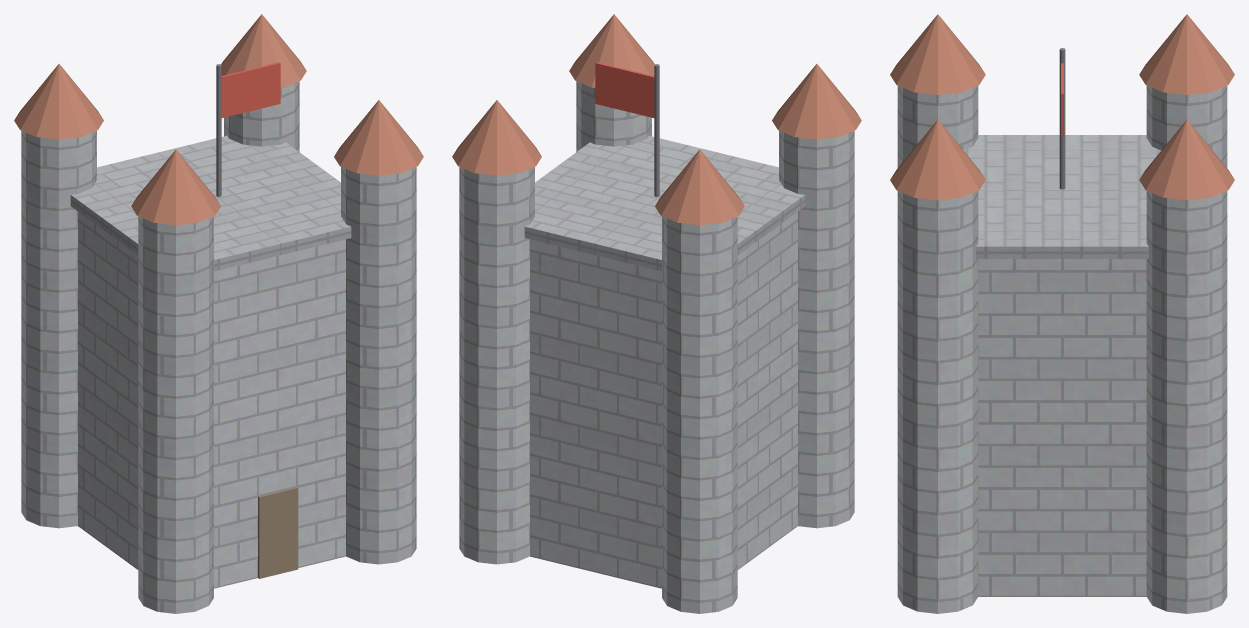
File: keep.glb
3 renders of one model, left to right at view 1: azimuth 30°, elevation 25°; view 2: azimuth 150°, elevation 25°; view 3: azimuth 270°, elevation 25°, orthographic. The views are drawn at different scales.
Parts seen in each view (by area): view 1: keep body, keep turret 1, keep turret 2, keep turret 3, keep course, keep cap 2, keep cap 3, keep cap 1, keep door, keep turret 4, keep cap 4, keep banner (+1 smaller); view 2: keep body, keep turret 3, keep turret 4, keep turret 1, keep course, keep cap 1, keep cap 4, keep cap 3, keep turret 2, keep cap 2, keep banner, keep pole; view 3: keep body, keep turret 2, keep turret 4, keep course, keep cap 2, keep cap 4, keep cap 1, keep cap 3, keep turret 1, keep turret 3, keep pole.
Part boxes in pixels (<box>): keep body: <box>78,212,345,588</box>; keep turret 1: <box>138,216,213,613</box>; keep turret 2: <box>341,167,416,564</box>; keep turret 3: <box>21,130,96,528</box>; keep course: <box>70,135,351,271</box>; keep cap 2: <box>334,100,423,175</box>; keep cap 3: <box>14,64,103,139</box>; keep cap 1: <box>131,149,220,225</box>; keep door: <box>258,487,298,578</box>; keep turret 4: <box>224,81,299,151</box>; keep cap 4: <box>221,14,306,87</box>; keep banner: <box>221,62,280,117</box>; keep body: <box>530,212,797,588</box>; keep turret 3: <box>662,216,737,613</box>; keep turret 4: <box>459,167,534,564</box>; keep turret 1: <box>779,130,854,528</box>; keep course: <box>524,135,805,271</box>; keep cap 1: <box>772,64,861,139</box>; keep cap 4: <box>452,100,541,175</box>; keep cap 3: <box>655,149,744,225</box>; keep turret 2: <box>576,81,651,151</box>; keep cap 2: <box>569,14,654,87</box>; keep banner: <box>595,62,654,117</box>; keep pole: <box>654,64,659,196</box>; keep body: <box>978,259,1146,596</box>; keep turret 2: <box>897,191,978,613</box>; keep turret 4: <box>1146,191,1227,613</box>; keep course: <box>963,135,1161,258</box>; keep cap 2: <box>890,119,985,200</box>; keep cap 4: <box>1139,119,1234,200</box>; keep cap 1: <box>890,14,985,94</box>; keep cap 3: <box>1139,14,1234,94</box>; keep turret 1: <box>897,85,978,167</box>; keep turret 3: <box>1146,85,1227,167</box>; keep pole: <box>1059,48,1065,189</box>.
Bounding box in the file's own units: 3.6 × 5.7 × 3.6.
Materials: 9 (2 with a texture image).
